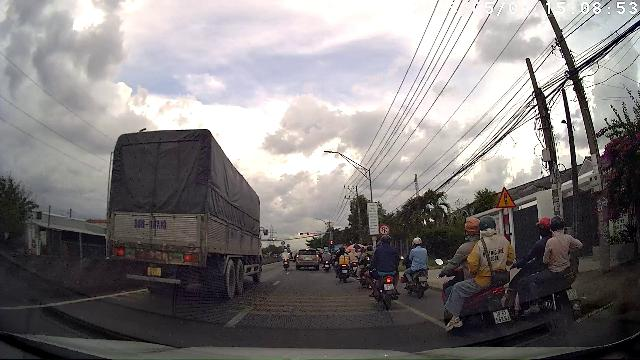124b-cam-oto-quay-dau-xe: (380, 224, 390, 234)
